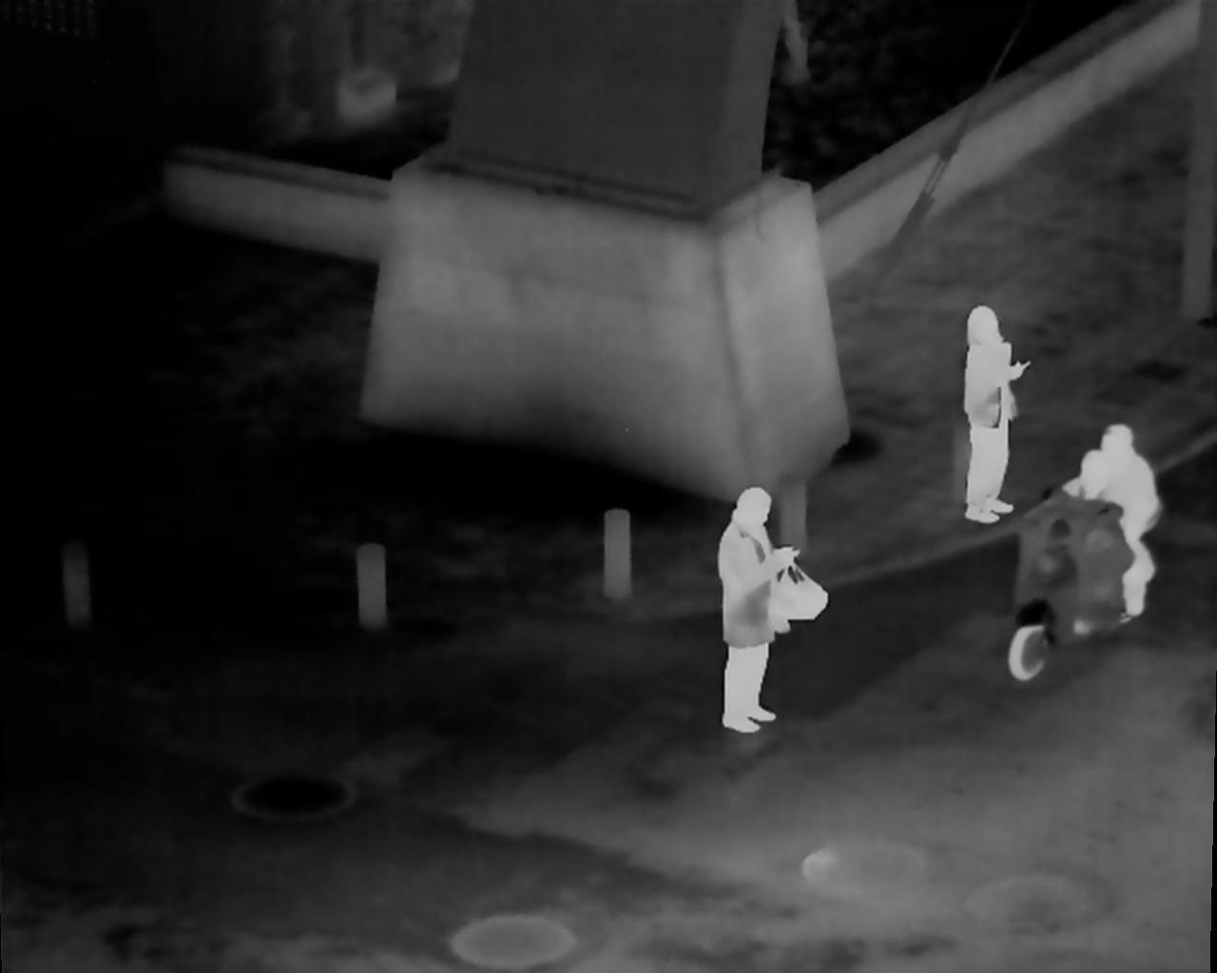person: (725, 484, 807, 737), (1067, 425, 1156, 633), (963, 304, 1027, 527)
